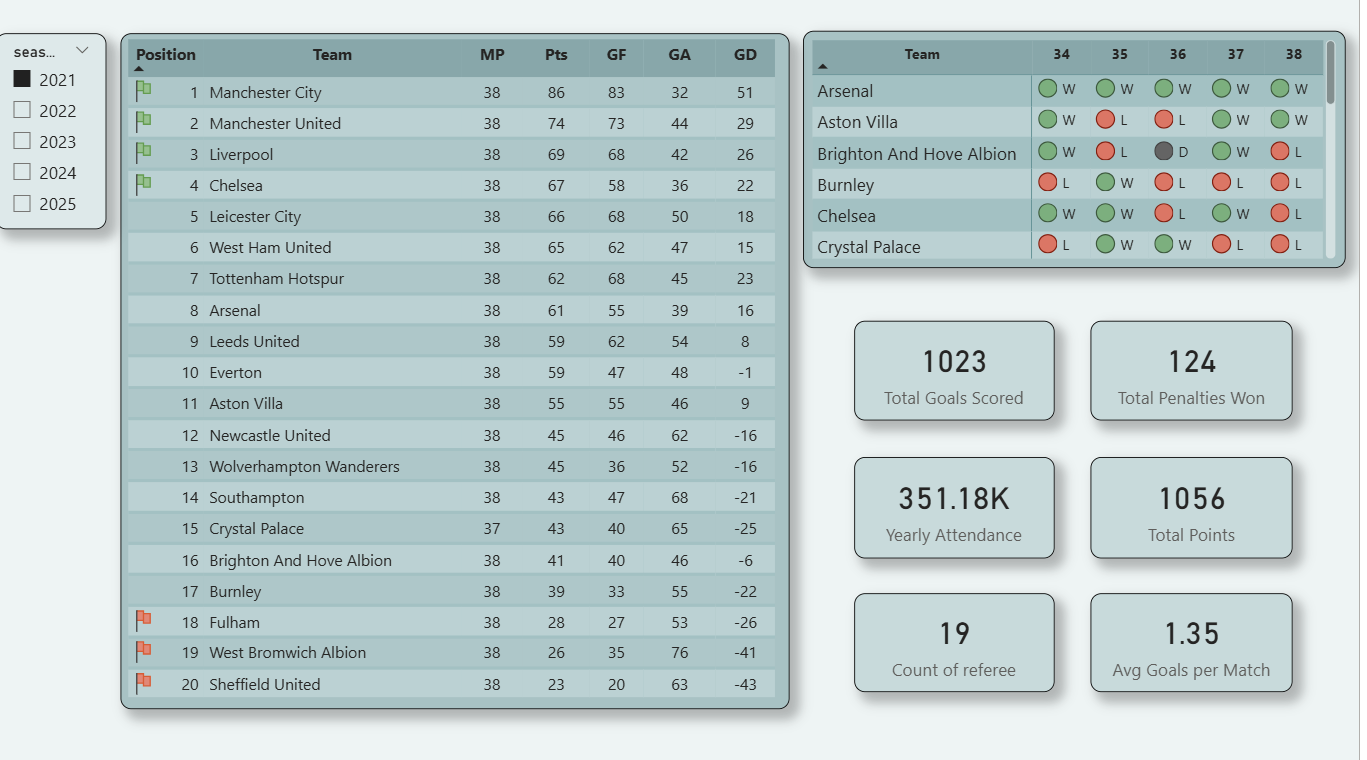

This screenshot's page, from the dashboard's own definition file:
{"tool":"powerbi","page":{"name":"League Overview","canvas":[1280,720],"ordinal":0},"visuals":[{"type":"slicer","fields":{"Values":["pl_matches.season"]},"box":[11.6,38.4,103.5,182.6],"z":1000},{"type":"tableEx","fields":{"Values":["pl_matches.League Rank","pl_matches.team","pl_matches.Measure","Sum(pl_matches.points)","Sum(pl_matches.goals_for)","Sum(pl_matches.goals_against)","Sum(pl_matches.goal_difference)"]},"box":[127.9,38.4,622.1,629.1],"z":2000},{"type":"pivotTable","fields":{"Rows":["pl_matches.team"],"Values":["pl_matches.Form Result"],"Columns":["pl_matches.round"]},"box":[762.8,36,504.7,220.9],"z":3000},{"type":"group","id":"g1","title":"Group 1","box":[810.5,305.8,408.1,345.3],"z":4000},{"type":"card","fields":{"Values":["Sum(pl_matches.goals_for)"]},"box":[810.5,305.8,186,93],"z":4000,"group":"g1"},{"type":"card","fields":{"Values":["Sum(pl_matches.attendance)"]},"box":[810.5,432.5,186,94.2],"z":5000,"group":"g1"},{"type":"card","fields":{"Values":["Sum(pl_matches.penality_won)"]},"box":[1030.3,305.8,188.4,93],"z":6000,"group":"g1"},{"type":"card","fields":{"Values":["Sum(pl_matches.points)"]},"box":[1030.3,432.5,188.4,94.2],"z":7000,"group":"g1"},{"type":"card","fields":{"Values":["Count(pl_matches.referee)"]},"box":[810.5,559.3,186,91.9],"z":8000,"group":"g1"},{"type":"card","fields":{"Values":["pl_matches.Avg Goals per Match"]},"box":[1030.3,559.3,188.4,91.9],"z":9000,"group":"g1"}]}

Visuals, with their boxes in screenshot pixels (x1, y1, x2, y2), scaled from the page's 1280x720 canvas onto the 1367x760 screenshot:
slicer - pl_matches.season: 12/41/123/233
tableEx - pl_matches.League Rank x pl_matches.team: 137/41/801/705
pivotTable - pl_matches.team x pl_matches.Form Result: 815/38/1354/271
"Group 1" group: 866/323/1301/687
card - Sum(pl_matches.goals_for): 866/323/1064/421
card - Sum(pl_matches.attendance): 866/457/1064/556
card - Sum(pl_matches.penality_won): 1100/323/1302/421
card - Sum(pl_matches.points): 1100/457/1302/556
card - Count(pl_matches.referee): 866/590/1064/687
card - pl_matches.Avg Goals per Match: 1100/590/1302/687
